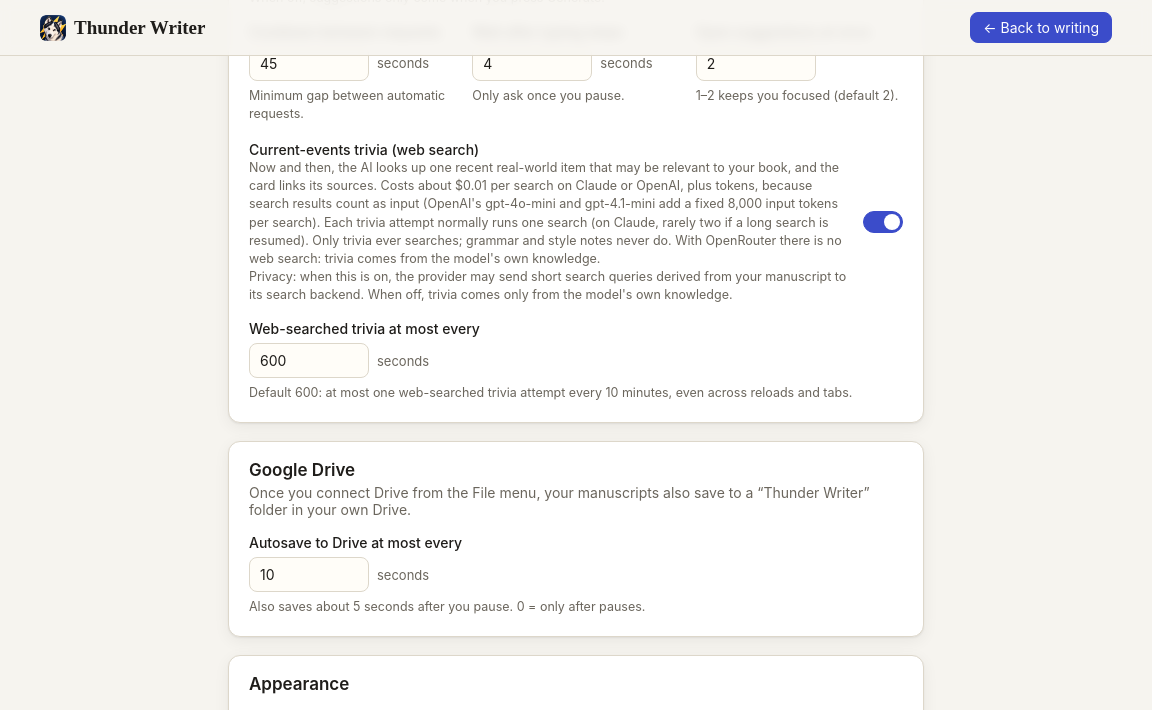
Test case: parseNumberField › web-searched trivia is on by default, explains cost and privacy, and has a bounded cooldown
(page scrolled)
Check: the switch labelled "Current-events trivia (web search)" is checked, box top-left (863, 211), bottom-right (903, 233)
Replace the text in the number field labelled "Web-searched trivia at most every" with "5" at (309, 361), box top-left (249, 343), bottom-right (369, 378)
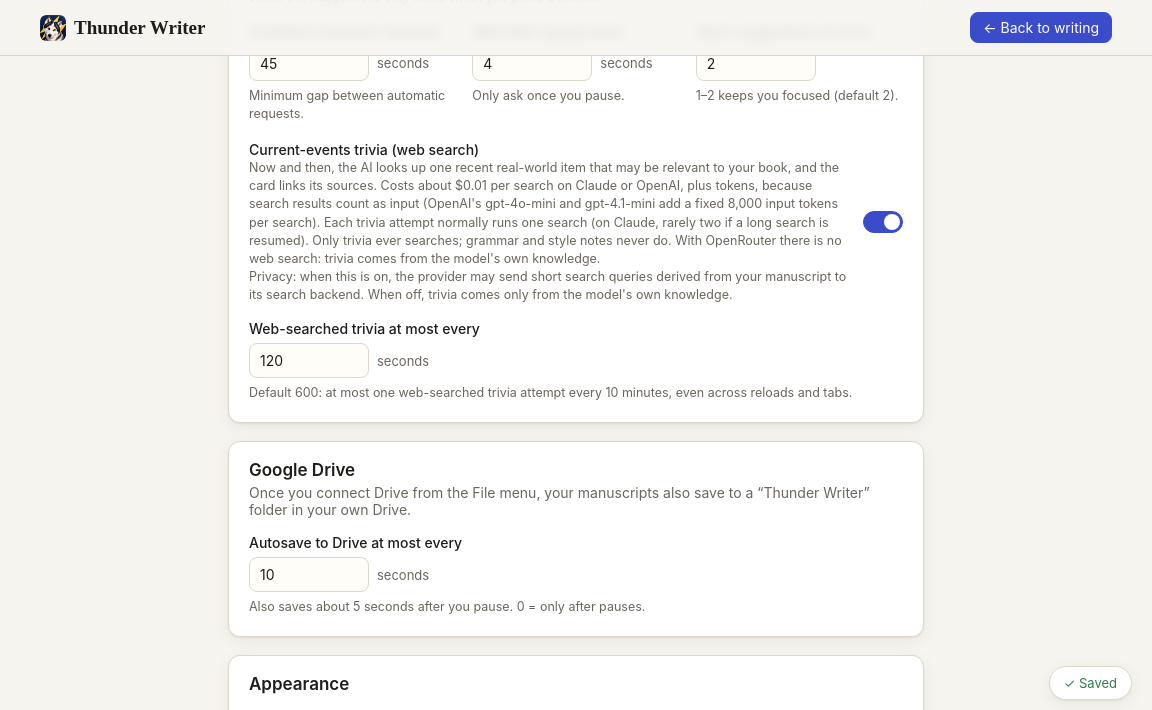
Click the switch labelled "Current-events trivia (web search)" at (883, 222), box top-left (863, 211), bottom-right (903, 233)
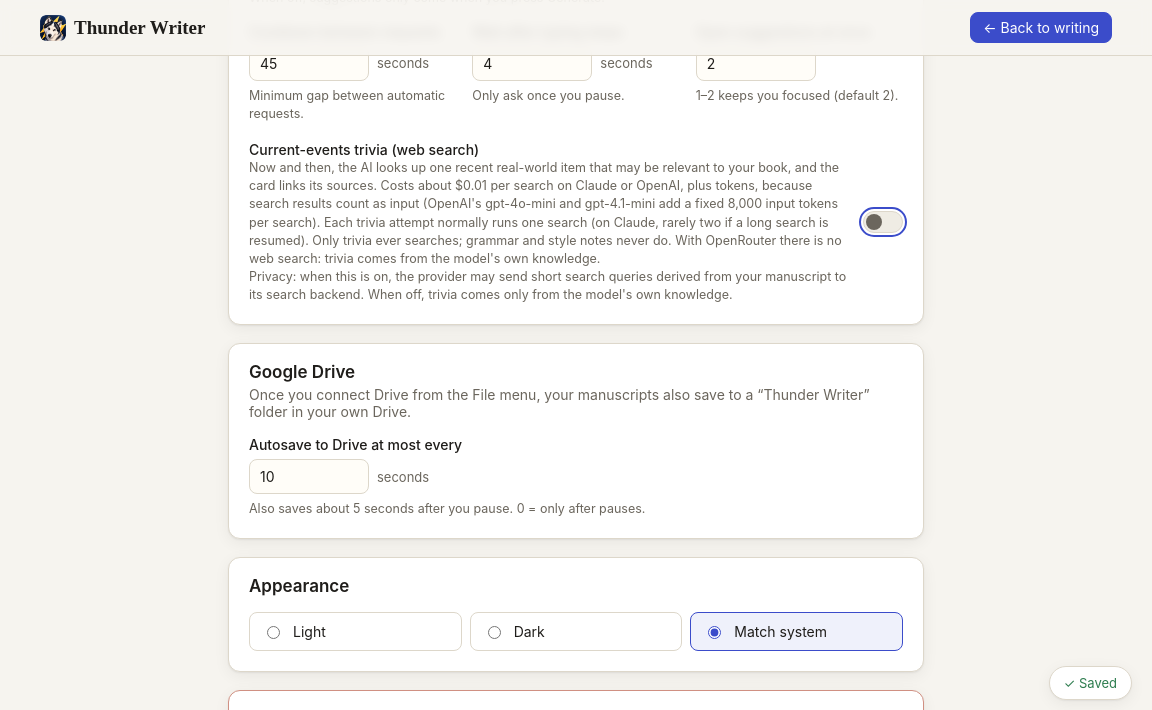
Check: the label labelled "Web-searched trivia at most every" is gone
